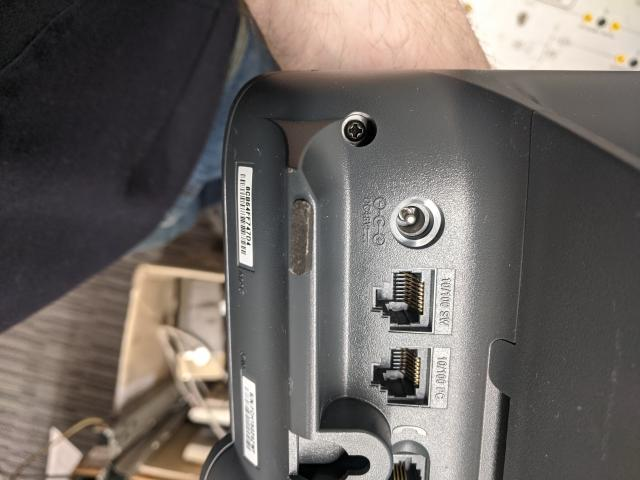CRS: (344, 118, 368, 144)
